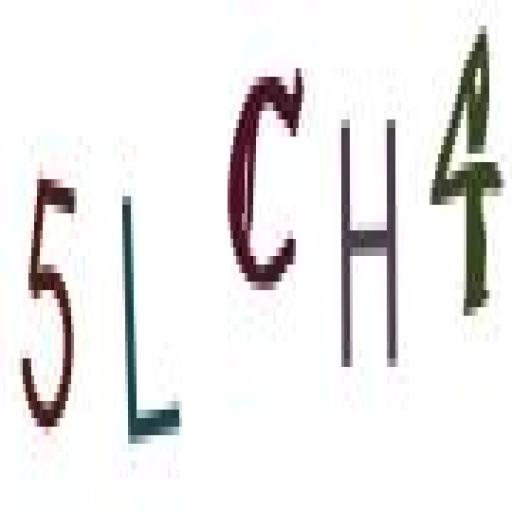4: (423, 4, 508, 339)
5: (17, 147, 84, 462)
C: (222, 46, 310, 318)
H: (338, 104, 402, 384)
L: (112, 169, 186, 479)
